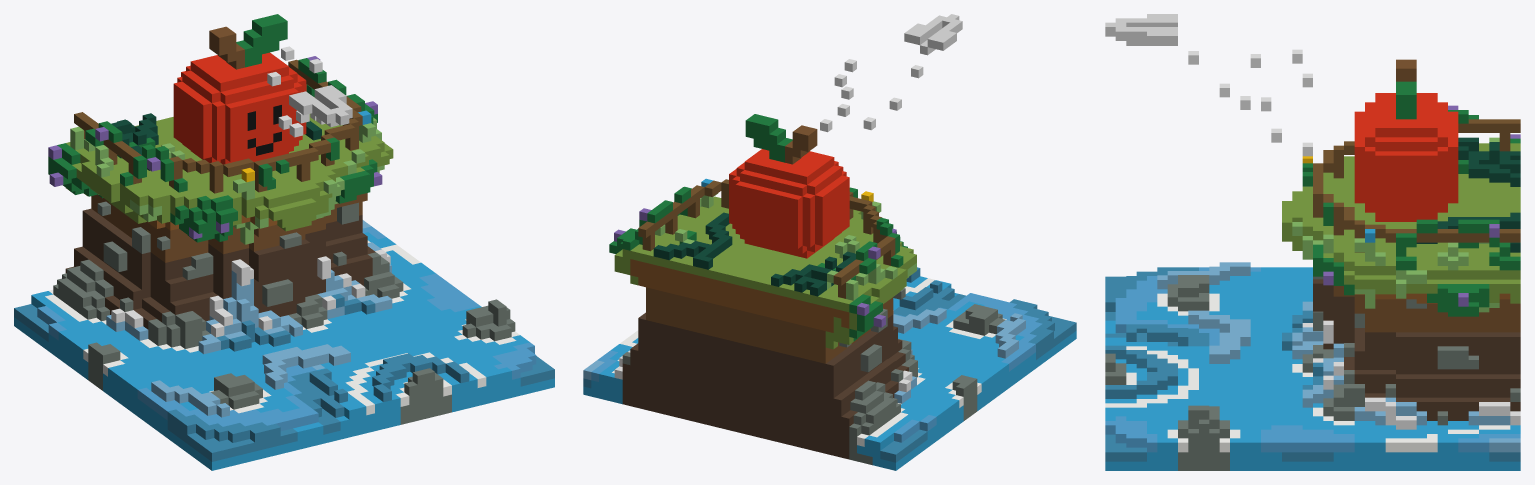
File: fuji-light.glb
The picture shows the model from 3 angles, left to right: view 1: azimuth 30°, elevation 25°; view 2: azimuth 150°, elevation 25°; view 3: azimuth 270°, elevation 25°; orthographic projection. The views are drawn at different scales.
Visible parts, largest first — view 1: Fuji_Cliff; view 2: Fuji_Cliff; view 3: Fuji_Cliff.
Boxes of the visible parts, bbox=[...] form: Fuji_Cliff: bbox=[14, 14, 554, 470]; Fuji_Cliff: bbox=[583, 14, 1076, 470]; Fuji_Cliff: bbox=[1105, 14, 1520, 470].
Size of the model in its own units: 4 by 3.6 by 4.
Materials: 1 (1 with a texture image).
